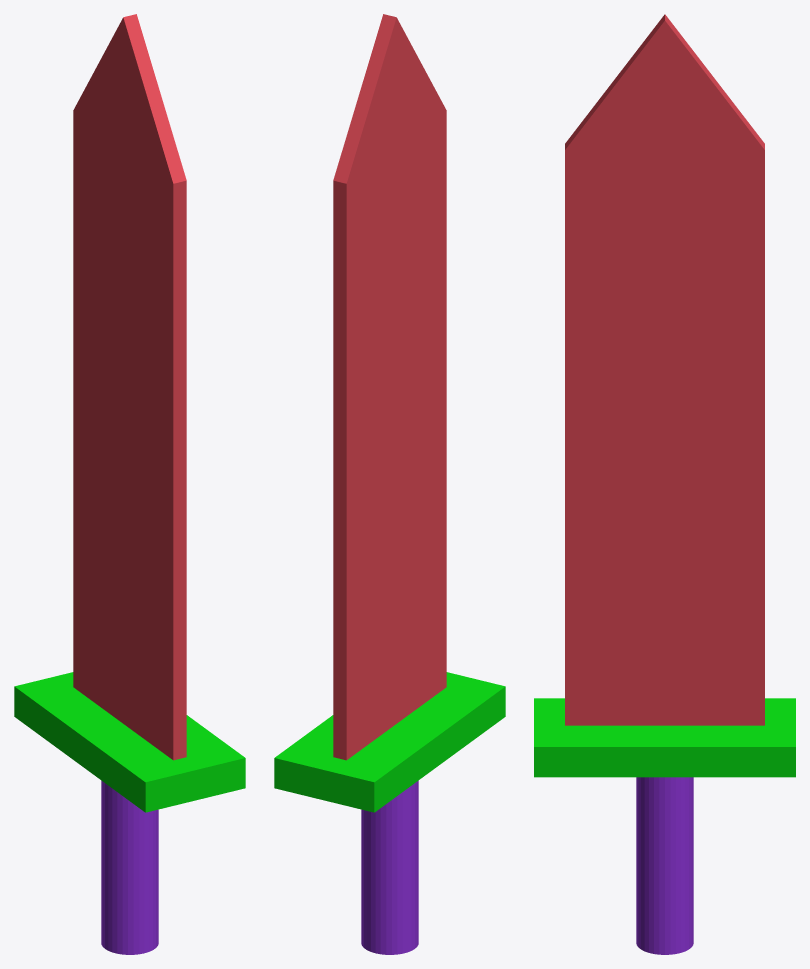
File: Breitschwert.fbx
3 renders of one model, left to right at view 1: azimuth 30°, elevation 25°; view 2: azimuth 150°, elevation 25°; view 3: azimuth 270°, elevation 25°, orthographic.
Visible parts, largest first — view 1: Cylinder; view 2: Cylinder; view 3: Cylinder.
Part boxes in pixels (x1,y1,x2,y2): Cylinder: (14, 14, 245, 954); Cylinder: (274, 14, 505, 954); Cylinder: (534, 14, 795, 954).
Bounding box in the file's own units: 161 × 1422 × 365.
